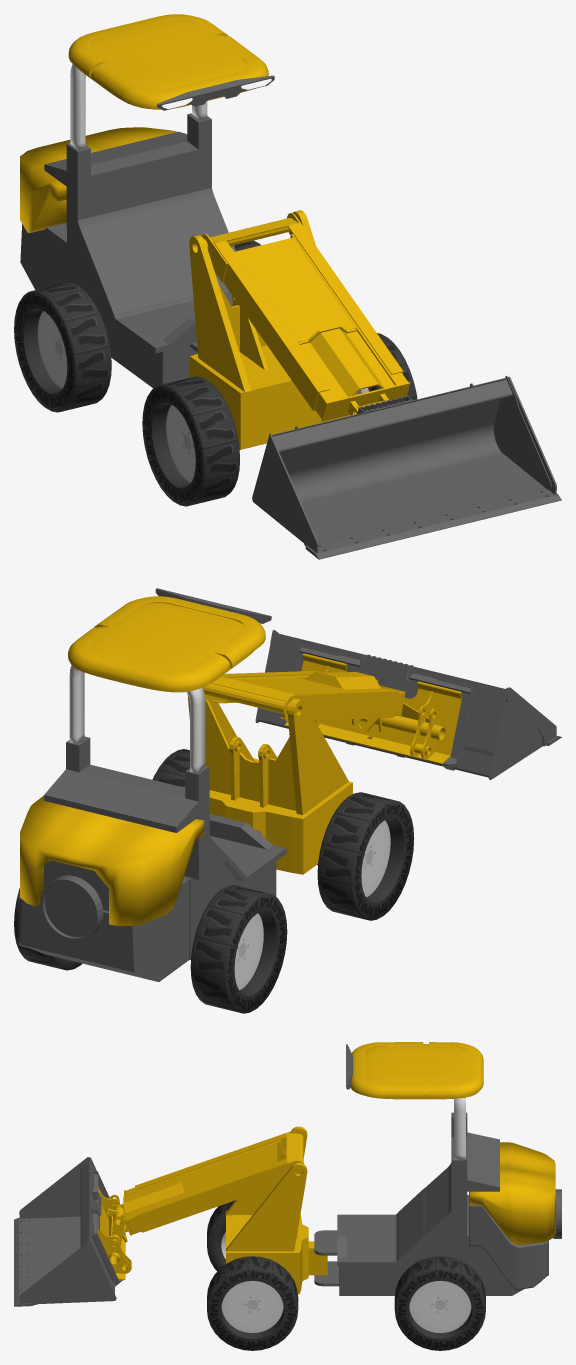
The model's file is model-bucket.glb.
3 renders of one model, top to bottom at view 1: azimuth 30°, elevation 25°; view 2: azimuth 150°, elevation 25°; view 3: azimuth 270°, elevation 25°, orthographic. The views are drawn at different scales.
Parts seen in each view (by area): view 1: Bucket, cab-wrap, arm-extension, roof, front-pivot, wheel-back-right, wheel-front-right, arm, rear-hood, rear chassis, rear-bottom, roof-pillars (+2 smaller); view 2: front-pivot, rear-hood, roof, Bucket, cab-wrap, wheel-back-right, wheel-front-right, rear-bottom, tool, arm, fan, roof-pillars (+5 smaller); view 3: Bucket, cab-wrap, roof, wheel-front-left, wheel-back-left, front-pivot, rear-hood, arm, rear chassis, arm-extension, rear-sides, tool (+3 smaller).
Part boxes in pixels (left/top/right/bottom): Bucket: left=252, top=375, right=561, bottom=559; cab-wrap: left=44, top=113, right=235, bottom=353; arm-extension: left=232, top=234, right=410, bottom=421; roof: left=68, top=14, right=268, bottom=109; front-pivot: left=189, top=210, right=356, bottom=449; wheel-back-right: left=14, top=282, right=111, bottom=412; wheel-front-right: left=142, top=376, right=239, bottom=506; arm: left=201, top=212, right=403, bottom=411; rear-hood: left=20, top=127, right=176, bottom=232; rear chassis: left=75, top=258, right=197, bottom=388; rear-bottom: left=20, top=223, right=75, bottom=289; roof-pillars: left=70, top=64, right=207, bottom=149; front-pivot: left=187, top=695, right=352, bottom=874; rear-hood: left=20, top=795, right=203, bottom=926; roof: left=68, top=596, right=265, bottom=692; Bucket: left=255, top=630, right=561, bottom=779; cab-wrap: left=44, top=736, right=286, bottom=881; wheel-back-right: left=190, top=885, right=287, bottom=1013; wheel-front-right: left=317, top=792, right=414, bottom=920; rear-bottom: left=20, top=878, right=189, bottom=981; tool: left=285, top=653, right=461, bottom=764; arm: left=202, top=671, right=398, bottom=720; fan: left=40, top=860, right=108, bottom=941; roof-pillars: left=69, top=665, right=205, bottom=773; Bucket: left=14, top=1157, right=122, bottom=1306; cab-wrap: left=337, top=1112, right=499, bottom=1266; roof: left=350, top=1042, right=483, bottom=1099; wheel-front-left: left=207, top=1256, right=298, bottom=1350; wheel-back-left: left=394, top=1256, right=485, bottom=1350; front-pivot: left=225, top=1126, right=327, bottom=1294; rear-hood: left=469, top=1142, right=555, bottom=1245; arm: left=135, top=1129, right=306, bottom=1232; rear chassis: left=314, top=1224, right=467, bottom=1295; arm-extension: left=113, top=1139, right=286, bottom=1235; rear-sides: left=469, top=1191, right=548, bottom=1289; tool: left=96, top=1188, right=131, bottom=1279.
Bounding box in the file's own units: 0.378 × 0.5071 × 1.01.
6 materials, 1 textured.
